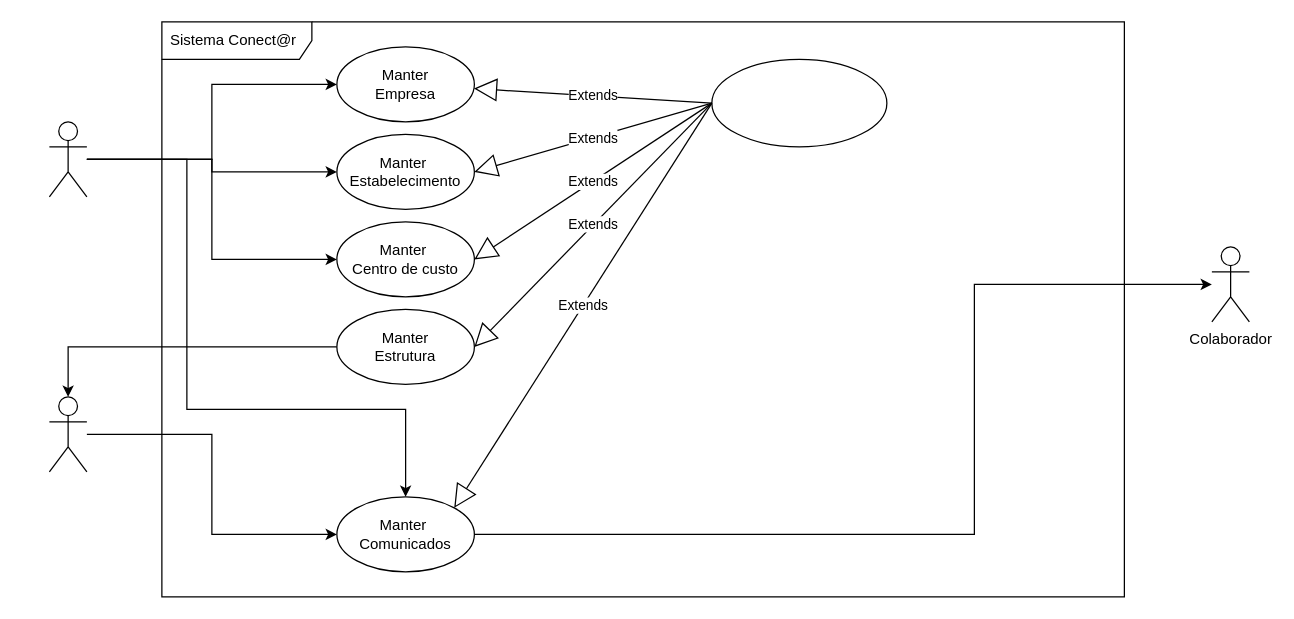
The diagram is 1294 pixels wide and 619 high, and some of its shapes have lost their labels. The centre of each missing label's shape, as x and y in pixels:
"Administrador" goes at [67,159].
"CRUD" goes at [799,102].
"Gestor" goes at [67,434].
